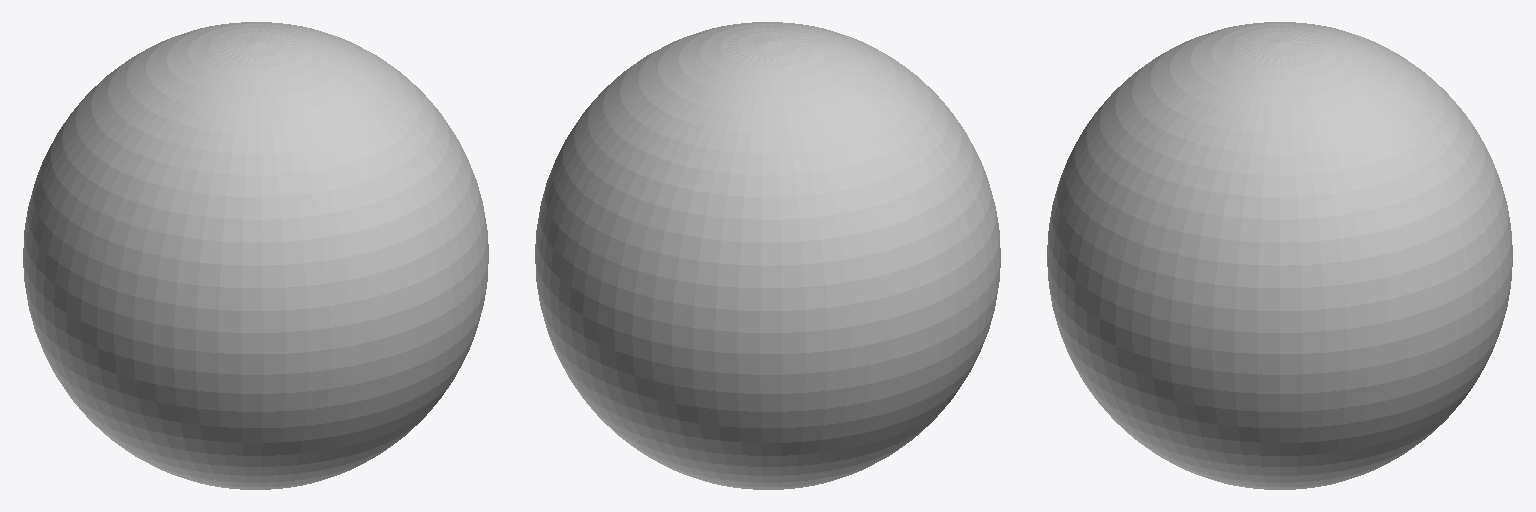
The model's file is sun.obj.
3 views of the same model, side by side, from view 1: azimuth 30°, elevation 25°; view 2: azimuth 150°, elevation 25°; view 3: azimuth 270°, elevation 25° (orthographic).
Parts seen in each view (by area): view 1: Sun; view 2: Sun; view 3: Sun.
Part boxes in pixels (x1,y1,x2,y2): Sun: (23,22,488,489); Sun: (535,22,1000,489); Sun: (1047,22,1512,489).
Bounding box in the file's own units: 13.56 × 13.7 × 13.56.